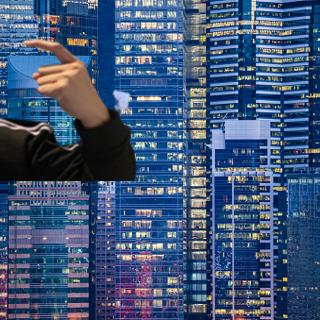WHY: (18, 34, 107, 124)
